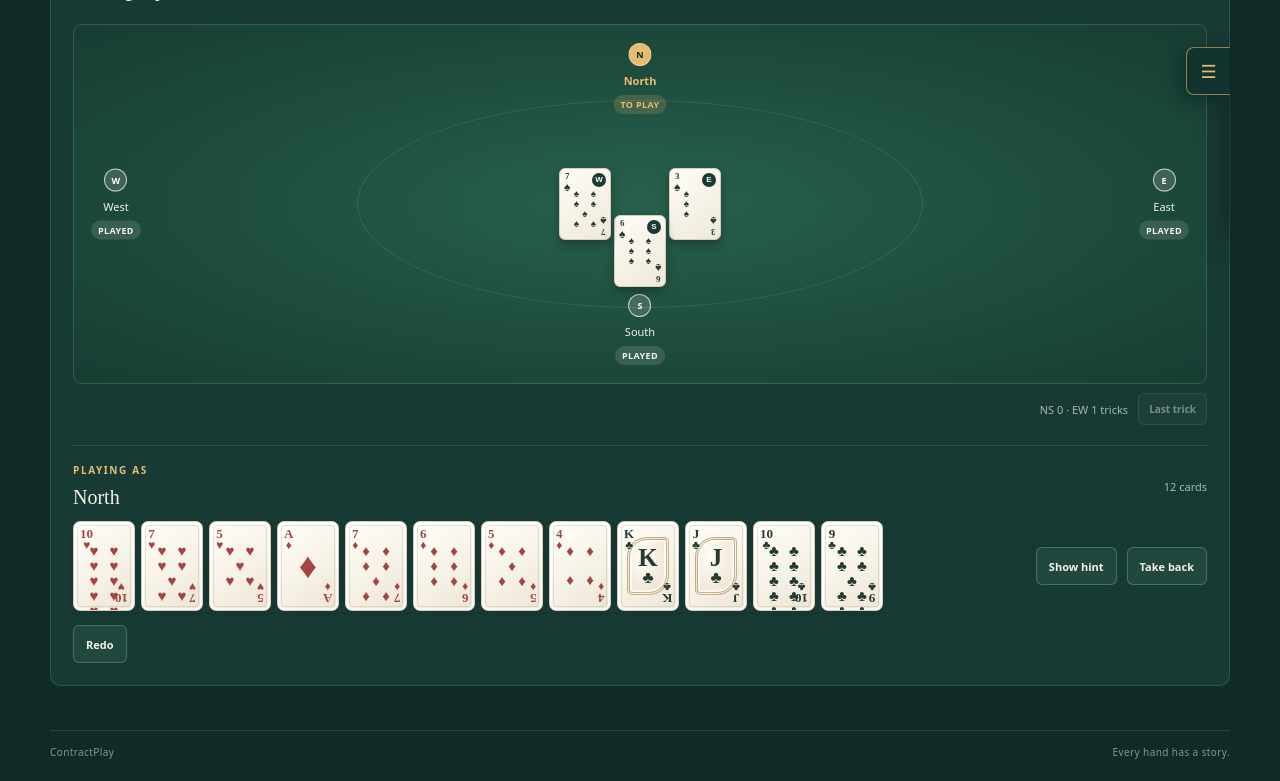
Test: bridge table › disables redo while the completed trick pause is active
(page scrolled)
Click the button "Redo" at x=100, y=644, box [73,625,126,663]
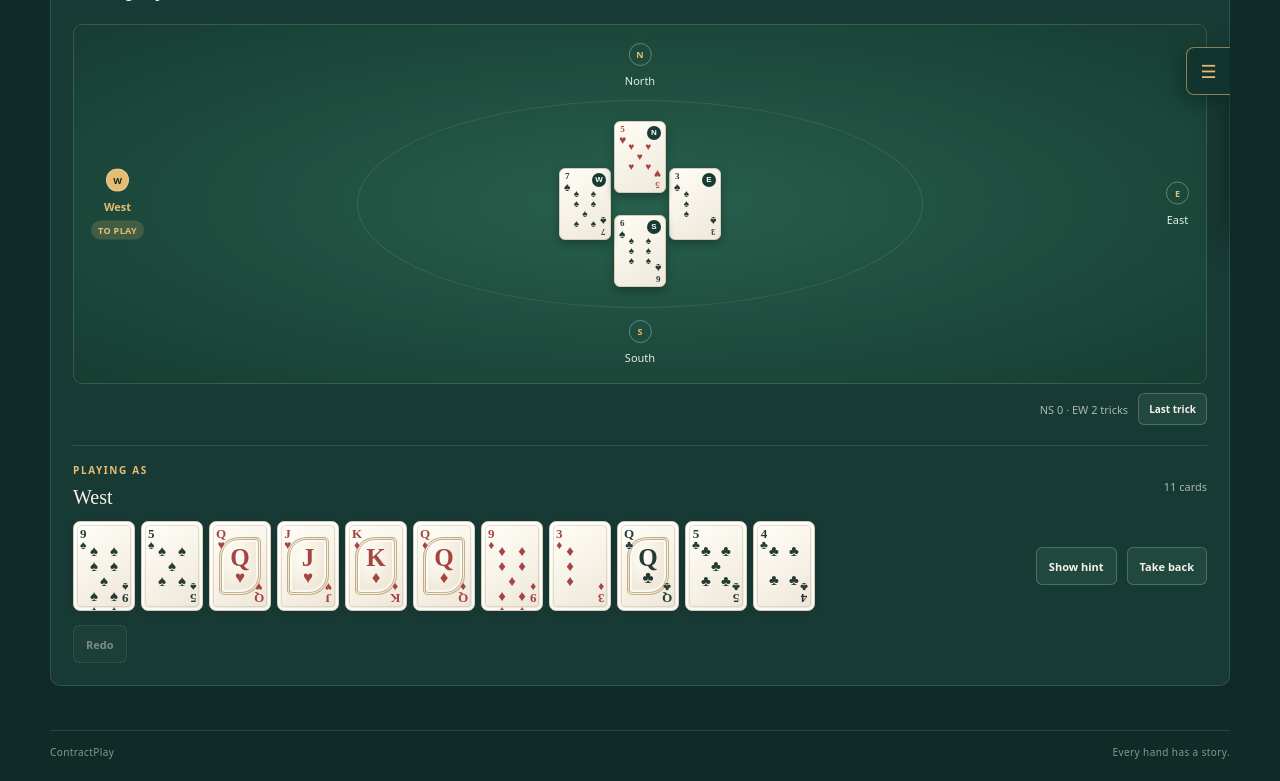
Expected: the button "Redo" is disabled, [73,625,126,663]
Expected: the number of pictures with class "trick-card" is 4, [669,168,721,240]; [614,215,666,287]; [559,168,611,240]; [614,121,666,193]
